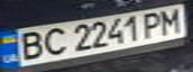1: (121, 12, 145, 42)
2: (87, 18, 112, 50), (69, 20, 93, 53)
4: (106, 16, 127, 45)
B: (12, 29, 48, 62)
C: (36, 25, 69, 57)
M: (154, 7, 187, 35)
P: (139, 9, 169, 38)
